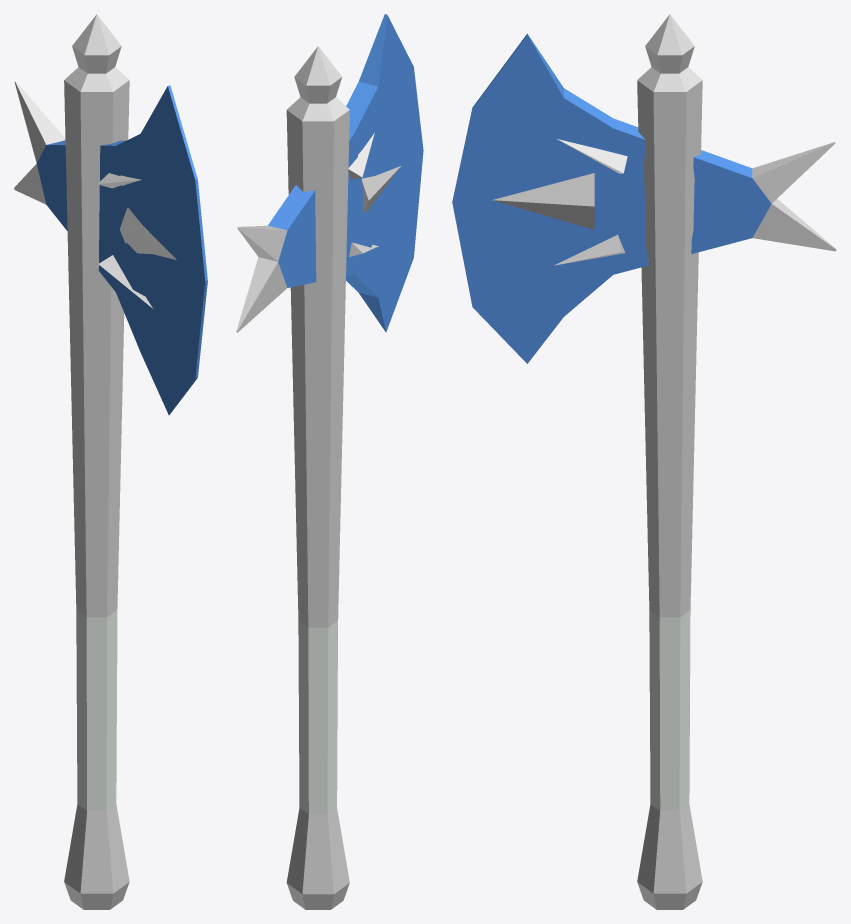
Rendered from LaraniteAxe.fbx.
3 renders of one model, left to right at view 1: azimuth 30°, elevation 25°; view 2: azimuth 150°, elevation 25°; view 3: azimuth 270°, elevation 25°, orthographic. The views are drawn at different scales.
Visible parts, largest first — view 1: Cylinder, Cone.002, Cone.000; view 2: Cylinder, Cone.002, Cone.001; view 3: Cone.002, Cylinder, Cone.001, Cone.000.
Part boxes in pixels (x1=…): Cylinder: x1=64, y1=14, x2=129, y2=909; Cone.002: x1=14, y1=81, x2=207, y2=415; Cone.000: x1=98, y1=255, x2=152, y2=308; Cylinder: x1=286, y1=46, x2=349, y2=909; Cone.002: x1=236, y1=14, x2=423, y2=332; Cone.001: x1=348, y1=132, x2=374, y2=179; Cone.002: x1=452, y1=33, x2=836, y2=363; Cylinder: x1=637, y1=14, x2=702, y2=909; Cone.001: x1=557, y1=139, x2=627, y2=173; Cone.000: x1=554, y1=234, x2=625, y2=265.
Bounding box in the file's own units: 28.33 × 483 × 190.
